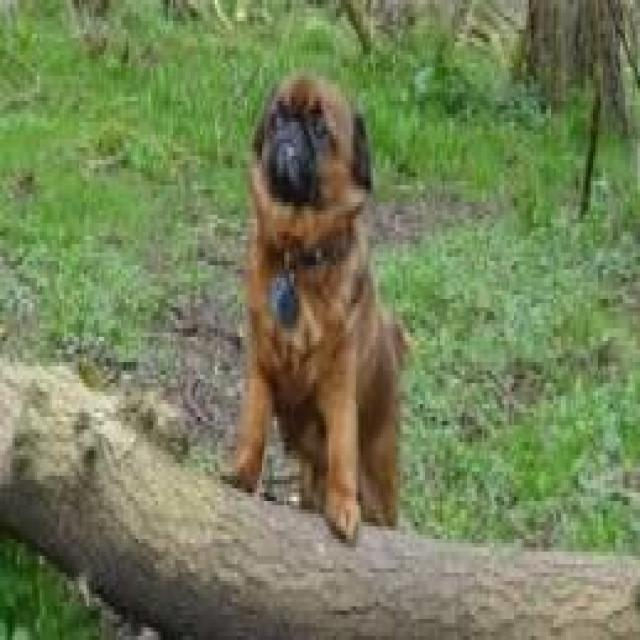Perro: (220, 64, 415, 548)
